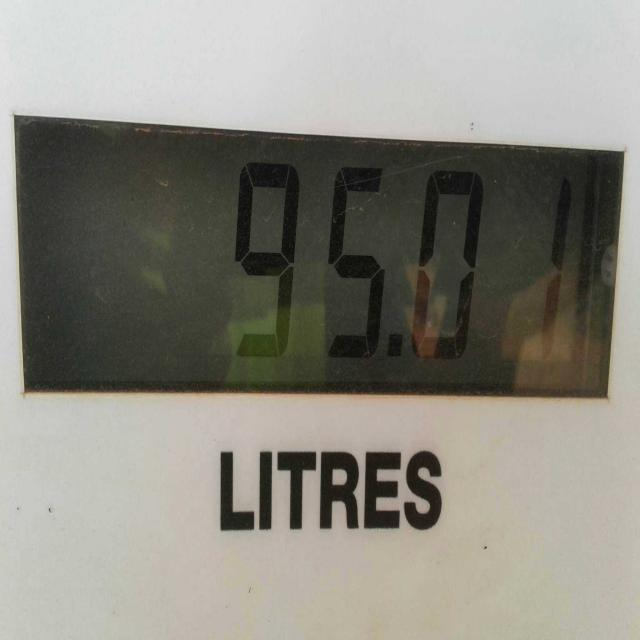.: (376, 312, 406, 378)
0: (405, 164, 489, 374)
1: (516, 155, 575, 375)
5: (313, 152, 390, 378)
9: (207, 150, 309, 380)
